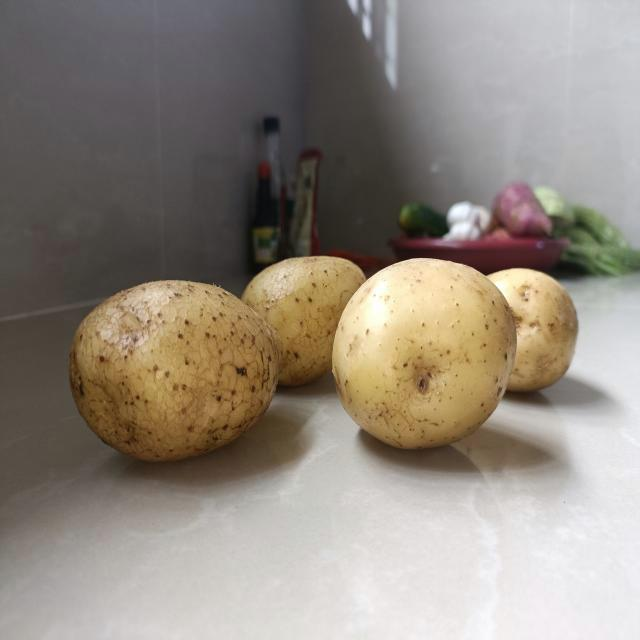potato: (65, 276, 287, 468), (330, 254, 520, 457), (245, 254, 371, 393), (485, 265, 584, 409)
